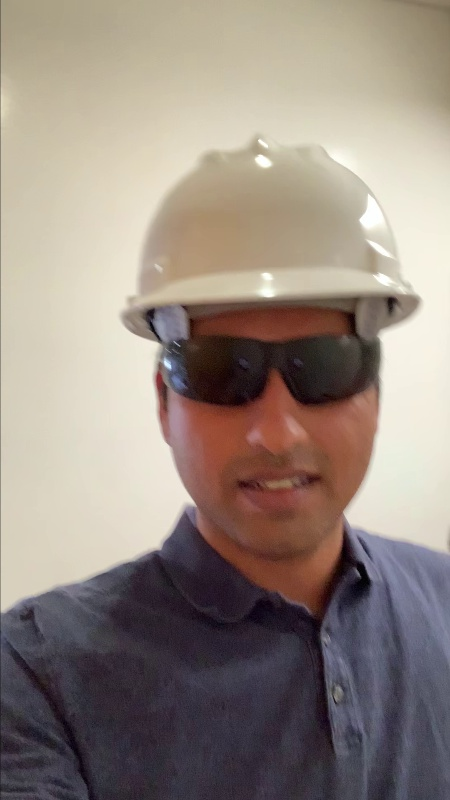glasses: (157, 330, 390, 404)
helmet: (111, 126, 422, 338)
